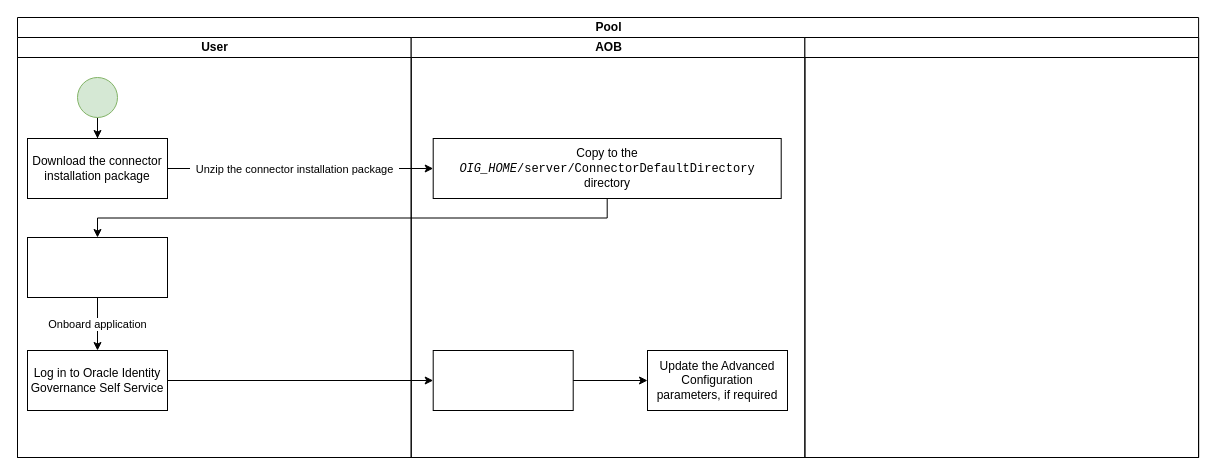
Some shapes in this 1217 by 475 pixel diagram are drawn without their labels. The shapes that lost their labels are listed below. From the top down, each one's box as (x1, y1, x2, y2) in pixels, then its label:
(76, 76, 118, 118): Start
(26, 236, 168, 298): Create a target system user account for connector operations
(804, 36, 1199, 458): CIW
(432, 350, 573, 410): Update the Basic Configuration parameters
